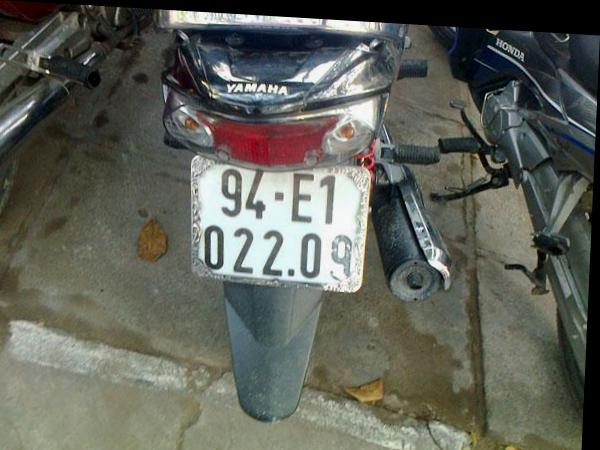License_Plate: (189, 157, 364, 285)
